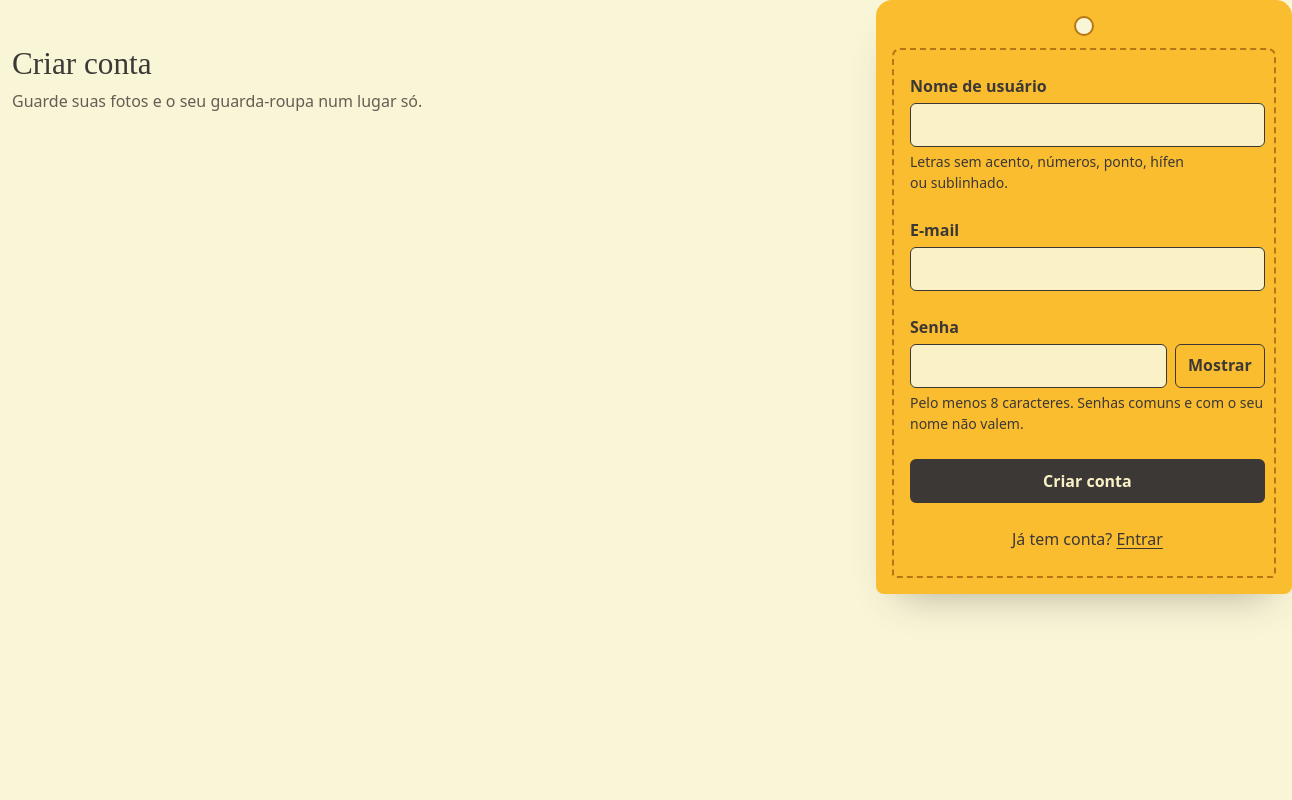
it: cadastro › envia os dados para a API e mostra a confirmação
Type "Joao.Silva" into the field labelled "Nome de usuário" at (1087, 125), box [910,103,1265,147]
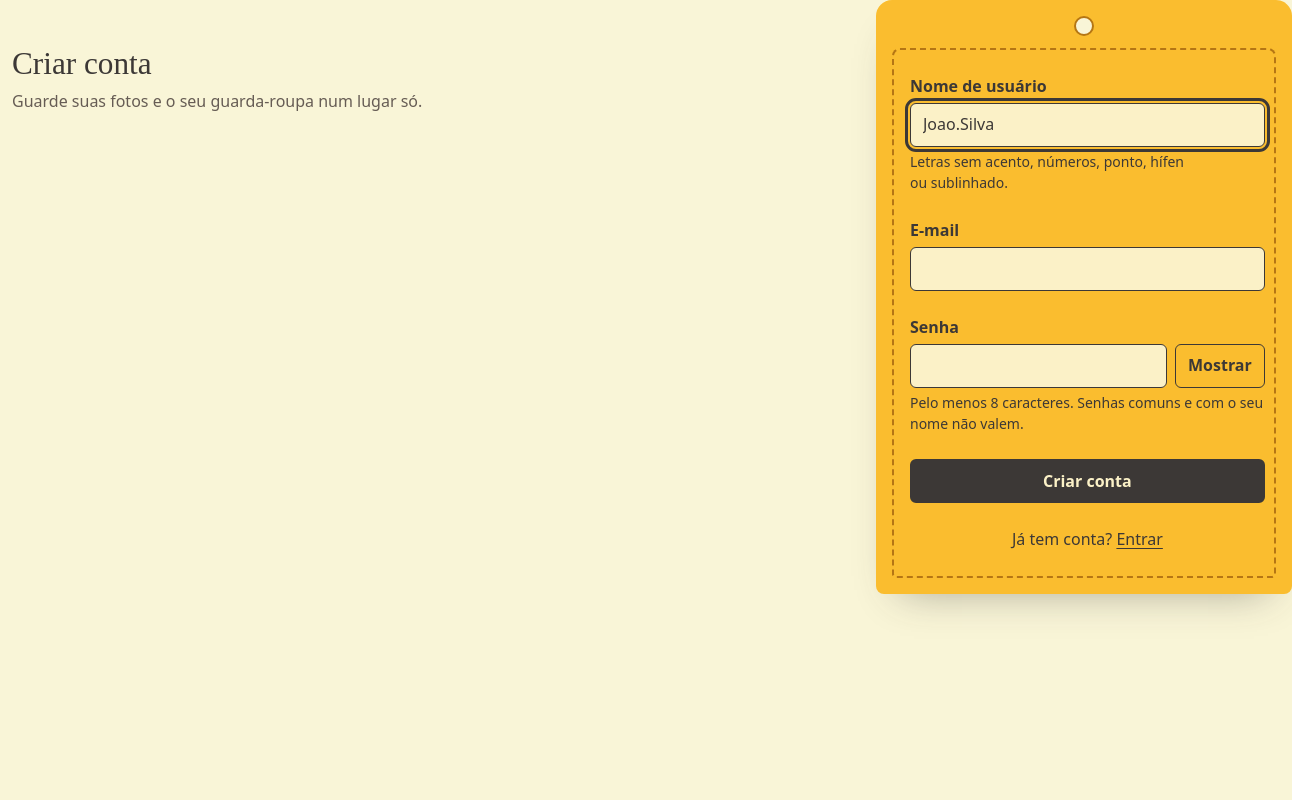
Type "Joao@Example.com" into the field labelled "E-mail" at (1087, 269), box [910,247,1265,291]
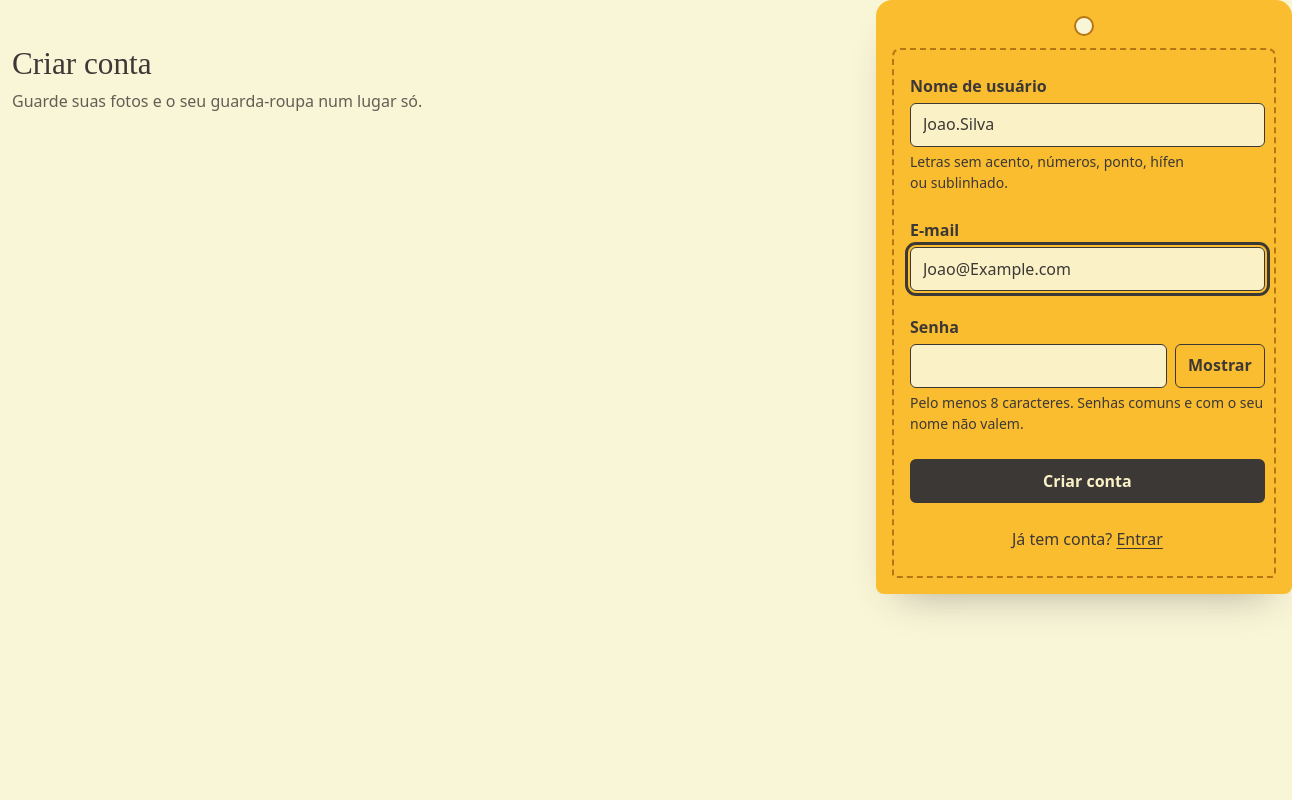
Type "senha-segura" into the password field labelled "Senha" at (1038, 366), box [910,344,1167,388]
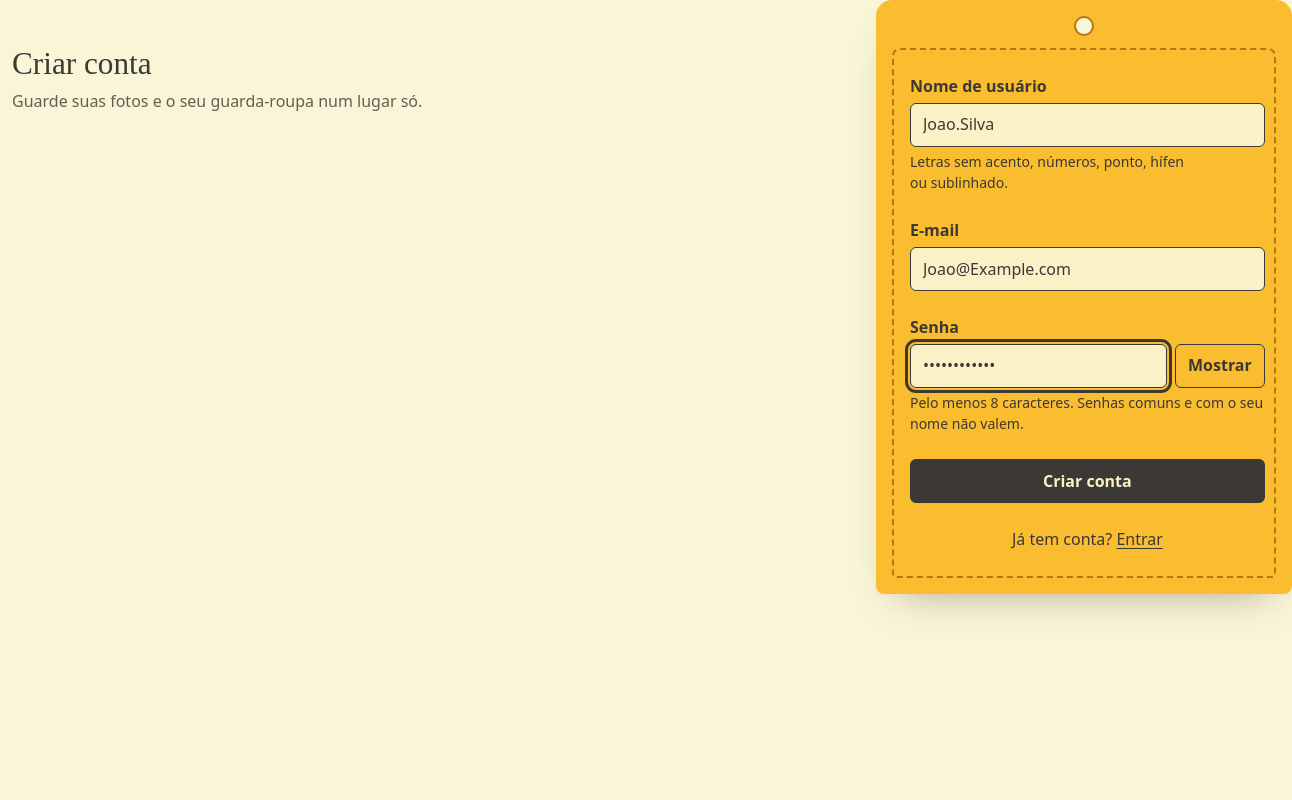
Click the button "Criar conta" at (1087, 481), box [910,459,1265,503]
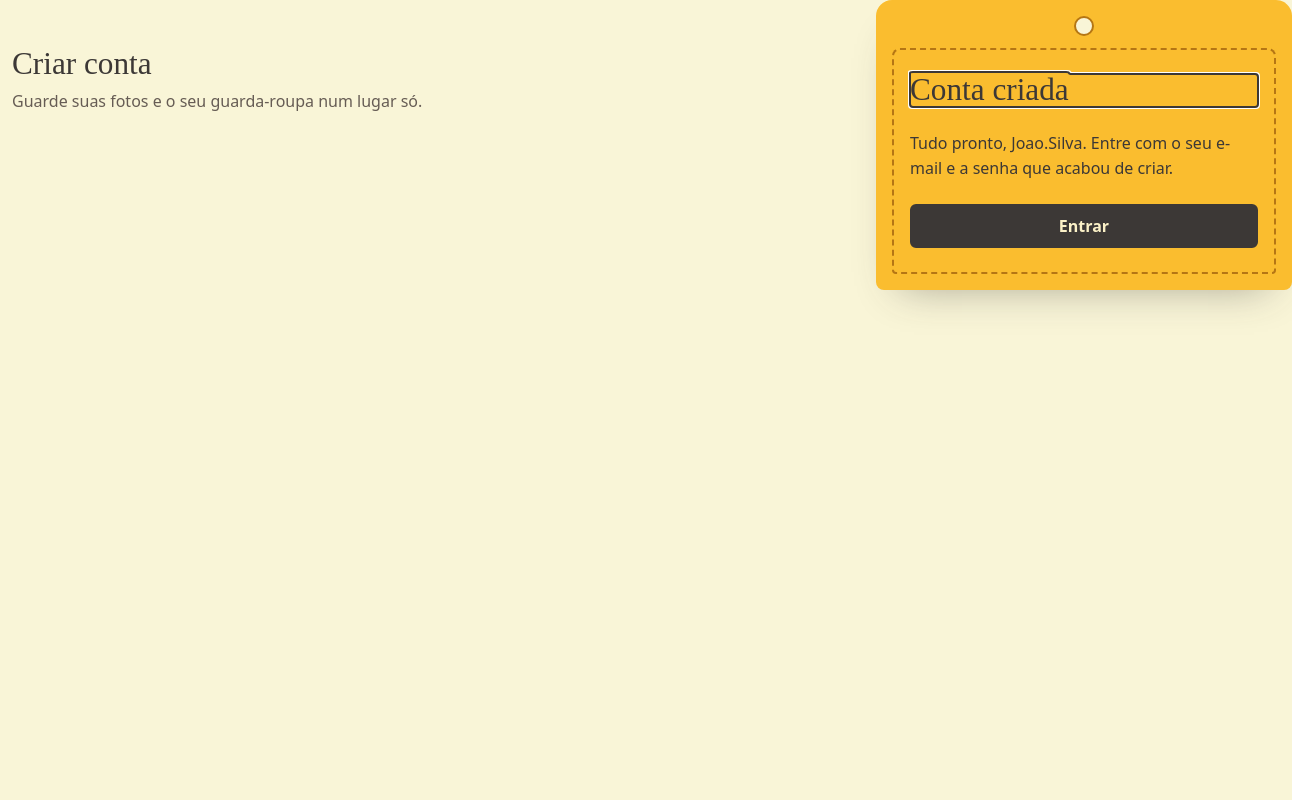
Check: the heading "Conta criada" is shown, box [910,72,1069,107]
Check: the text "Tudo pronto, Joao.Silva" is shown, box [910,132,1230,179]
